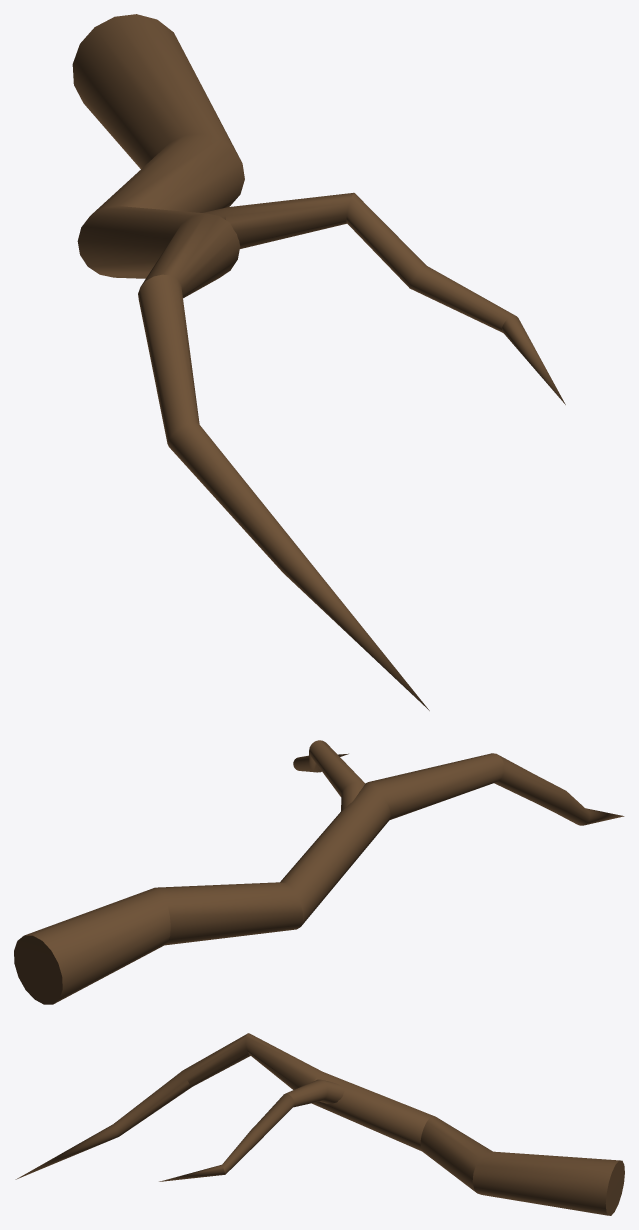
File: Sm_Branches4L.fbx
3 views of the same model, one above another, from view 1: azimuth 30°, elevation 25°; view 2: azimuth 150°, elevation 25°; view 3: azimuth 270°, elevation 25° (orthographic). The views are drawn at different scales.
Visible parts, largest first — view 1: Sm_Branches4L.001; view 2: Sm_Branches4L.001; view 3: Sm_Branches4L.001.
Part boxes in pixels (left/top/right/bottom): Sm_Branches4L.001: left=72, top=14, right=565, bottom=710; Sm_Branches4L.001: left=14, top=740, right=624, bottom=1004; Sm_Branches4L.001: left=15, top=1033, right=624, bottom=1215.
Bounding box in the file's own units: 32.55 × 19.66 × 79.07.
